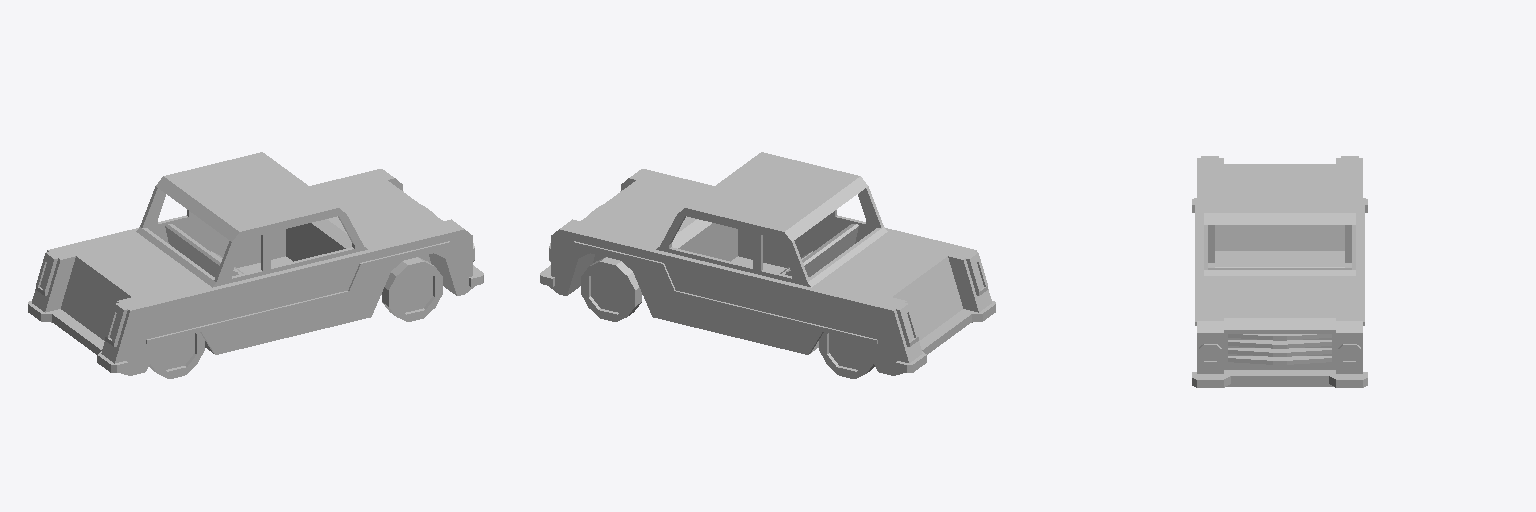
The model's file is Car 1960s car body and wheels N111122.obj.
The picture shows the model from 3 angles: view 1: azimuth 30°, elevation 25°; view 2: azimuth 150°, elevation 25°; view 3: azimuth 270°, elevation 25°; orthographic projection.
Visible parts, largest first — view 1: front_9_9_9, bottom_69_69_69, bottom_13_13_13, bottom_10_10_10, slope_83_83_83, back_11_11_11, front_47_47_47, slope_42_42_42, front_53_53_53, front_6_6_6, back_14_14_14, back_263_263_504 (+6 smaller); view 2: back_8_8_8, bottom_69_69_69, bottom_13_13_13, bottom_10_10_10, slope_83_83_83, front_12_12_12, front_48_48_48, slope_42_42_42, front_53_53_53, back_5_5_5, front_15_15_15, front_280_280_521 (+6 smaller); view 3: bottom_69_69_69, bottom_13_13_13, slope_100_100_835, top_94_94_829, slope_39_39_39, slope_118_118_118, slope_34_34_34, right_80_80_321, left_124_124_124, left_135_135_135, left_150_150_150, bottom_29_29_29 (+2 smaller).
Boxes of the visible parts, <box> form: front_9_9_9: <box>216,252,371,354</box>; bottom_69_69_69: <box>164,152,337,231</box>; bottom_13_13_13: <box>310,170,455,251</box>; bottom_10_10_10: <box>63,229,214,306</box>; slope_83_83_83: <box>61,256,130,340</box>; back_11_11_11: <box>146,290,215,339</box>; front_47_47_47: <box>146,215,277,267</box>; slope_42_42_42: <box>156,176,238,241</box>; front_53_53_53: <box>286,225,336,261</box>; front_6_6_6: <box>130,307,145,375</box>; back_14_14_14: <box>372,231,456,267</box>; back_263_263_504: <box>147,288,360,344</box>; back_8_8_8: <box>652,252,807,354</box>; bottom_69_69_69: <box>686,152,859,231</box>; bottom_13_13_13: <box>568,170,713,251</box>; bottom_10_10_10: <box>809,229,960,306</box>; slope_83_83_83: <box>893,256,962,340</box>; front_12_12_12: <box>808,290,877,339</box>; front_48_48_48: <box>746,215,877,267</box>; slope_42_42_42: <box>785,176,867,241</box>; front_53_53_53: <box>687,225,737,261</box>; back_5_5_5: <box>878,307,893,375</box>; front_15_15_15: <box>567,231,651,267</box>; front_280_280_521: <box>663,288,876,344</box>; bottom_69_69_69: <box>1204,164,1355,212</box>; bottom_13_13_13: <box>1197,276,1362,317</box>; slope_100_100_835: <box>1215,225,1344,250</box>; top_94_94_829: <box>1215,251,1344,266</box>; slope_39_39_39: <box>1204,213,1355,224</box>; slope_118_118_118: <box>1224,318,1335,329</box>; slope_34_34_34: <box>1204,270,1355,275</box>; right_80_80_321: <box>1231,376,1328,383</box>; left_124_124_124: <box>1224,362,1335,369</box>; left_135_135_135: <box>1336,333,1362,373</box>; left_150_150_150: <box>1197,333,1223,373</box>; bottom_29_29_29: <box>1197,200,1203,275</box>.
Bounding box in the file's own units: 384 × 128 × 156.